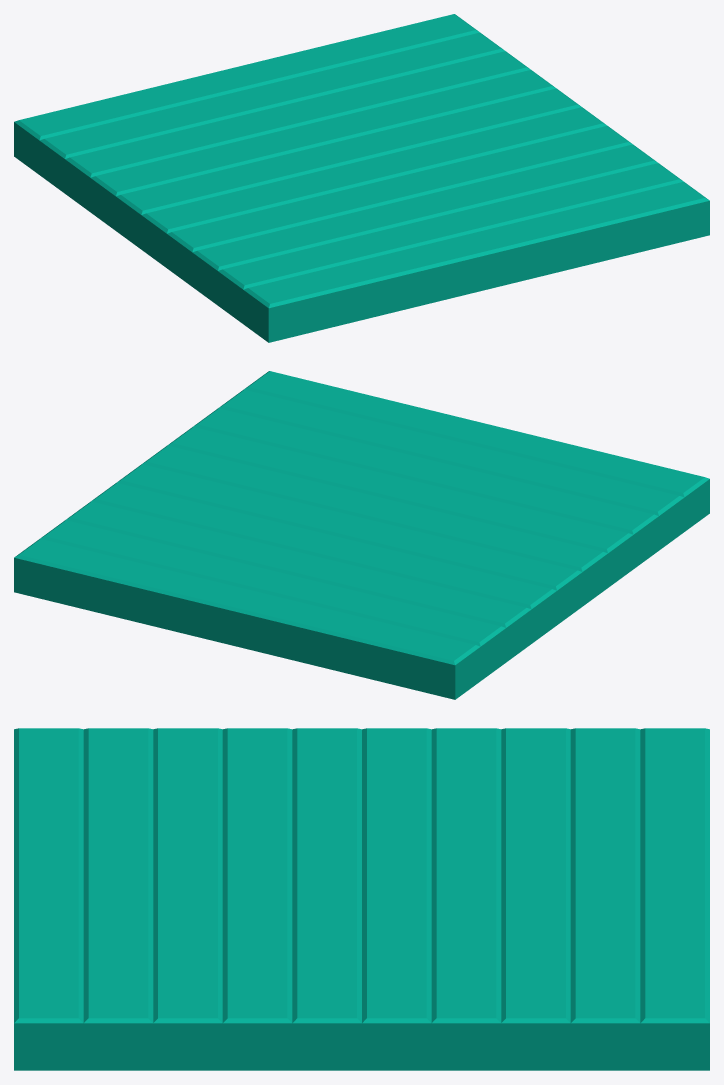
The model's file is Floor.fbx.
3 renders of one model, top to bottom at view 1: azimuth 30°, elevation 25°; view 2: azimuth 150°, elevation 25°; view 3: azimuth 270°, elevation 25°, orthographic. The views are drawn at different scales.
Parts seen in each view (by area): view 1: Piso living.002; view 2: Piso living.002; view 3: Piso living.002.
Part boxes in pixels (left/top/right/bottom): Piso living.002: left=14, top=14, right=709, bottom=342; Piso living.002: left=14, top=371, right=709, bottom=699; Piso living.002: left=14, top=728, right=709, bottom=1070.
Bounding box in the file's own units: 200 × 15.97 × 200.
